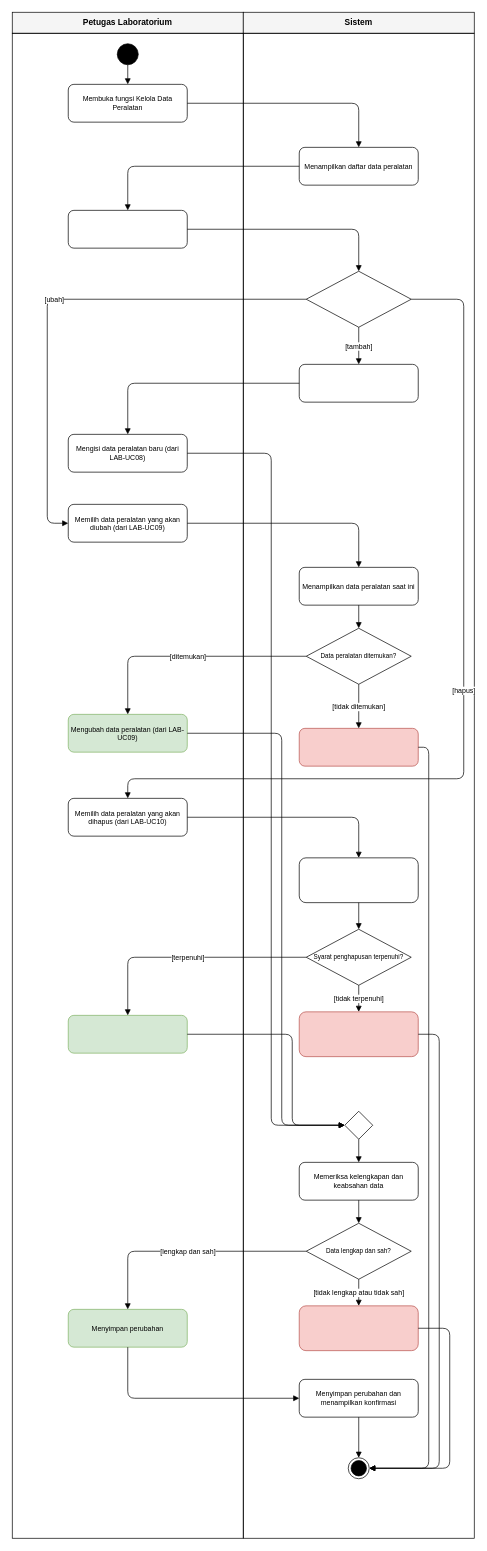
This 487x1551 diagram has some shape labels left out. The shapes that lost their labels are listed below. From the top down, each one's box as (x1, y1, x2, y2) in pixels, then its label:
(68, 210, 187, 248): Memilih bentuk pengelolaan (tambah, ubah, atau hapus)
(306, 271, 411, 327): Bentuk pengelolaan yang dipilih?
(299, 364, 418, 402): Menampilkan formulir data peralatan baru
(299, 728, 418, 766): Menampilkan pesan data peralatan tidak ditemukan
(299, 857, 418, 903): Memeriksa peralatan tidak sedang dipinjam dan tidak memiliki pengajuan aktif
(68, 1015, 187, 1053): Mengonfirmasi penghapusan (dari LAB-UC10)
(299, 1011, 418, 1057): Menolak penghapusan dan menampilkan pesan peralatan masih terpakai
(299, 1305, 418, 1351): Menolak penyimpanan dan menampilkan pesan kesalahan data
